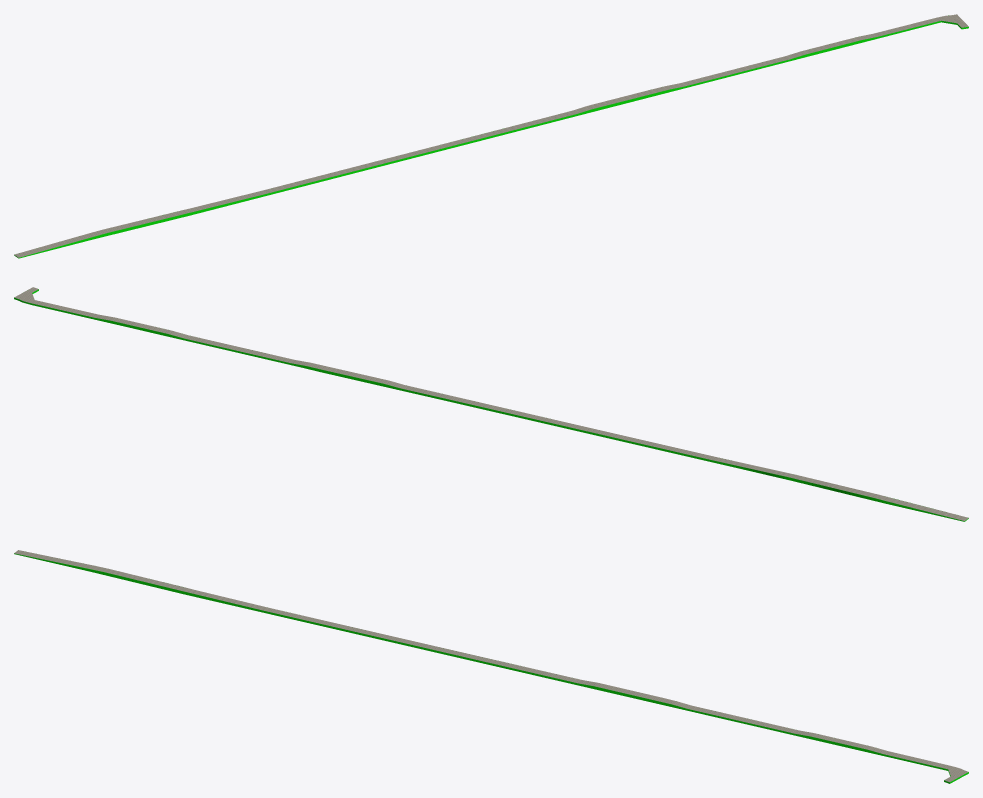
The model's file is 002Floor.glb.
The picture shows the model from 3 angles, top to bottom: view 1: azimuth 30°, elevation 25°; view 2: azimuth 150°, elevation 25°; view 3: azimuth 330°, elevation 25°; orthographic projection.
Parts seen in each view (by area): view 1: Geom3D (×2); view 2: Geom3D (×2); view 3: Geom3D (×2).
Boxes of the visible parts, x1,y1,x2,y2 form: Geom3D (×2): [14, 14, 968, 258]; Geom3D (×2): [14, 287, 968, 521]; Geom3D (×2): [14, 550, 968, 783].
Bounding box in the file's own units: 474 × 1.41 × 14.99.
2 materials, 1 textured.
